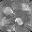people: (2, 6, 14, 16), (0, 17, 12, 27), (15, 17, 23, 25)
